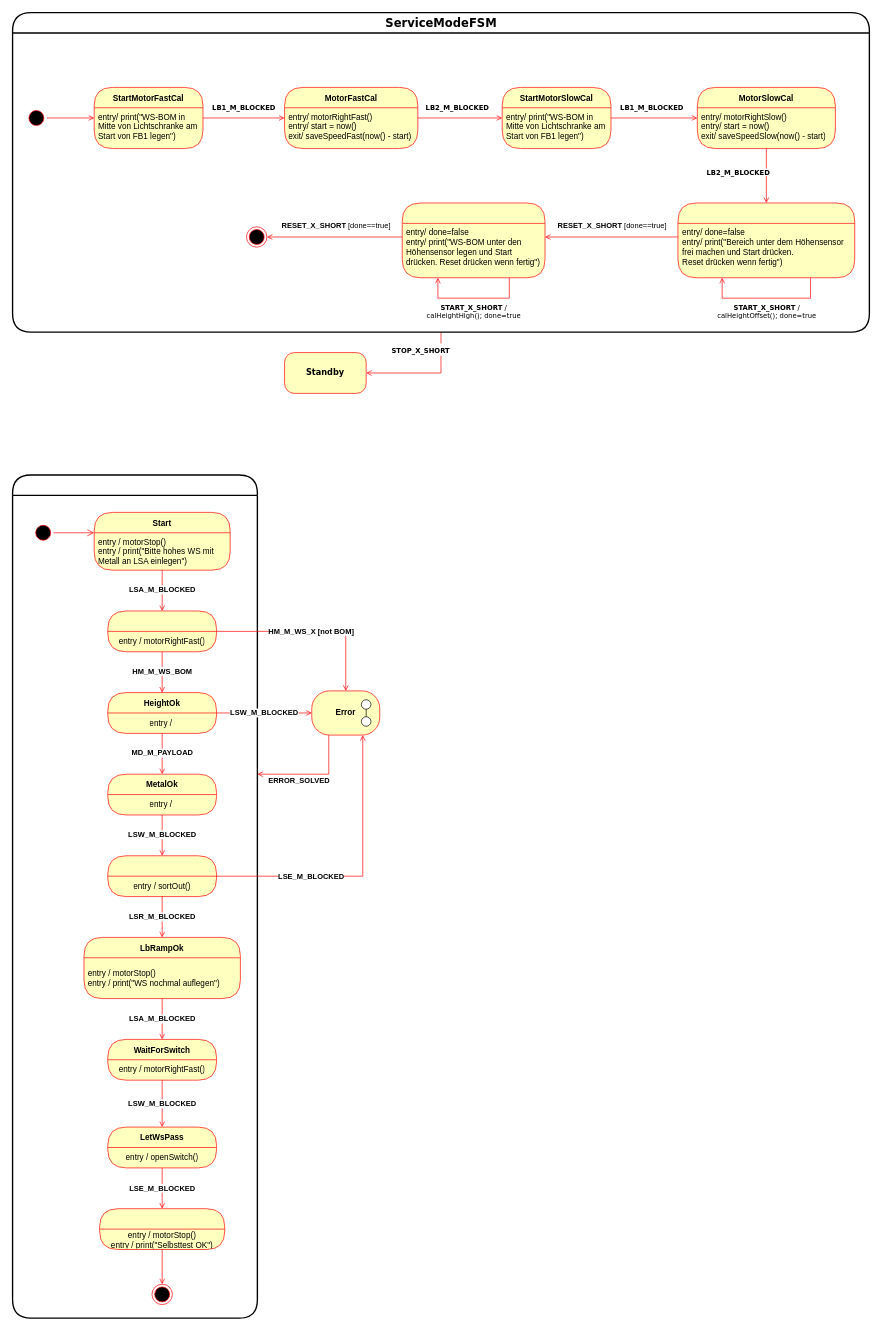
The diagram is 881 pixels wide and 1330 high, and some of its shapes have lost their labels. Here are the shapes that lost their labels. From the top down, the box of each, then its label:
(402, 202, 545, 278): StartHeightCalHigh
(677, 202, 855, 278): StartHeightCalOffset
(107, 610, 217, 652): WaitForHeight
(107, 855, 217, 897): LbSwitchOk
(12, 474, 258, 1319): SensorSelftest
(99, 1208, 225, 1250): LbEndOk
